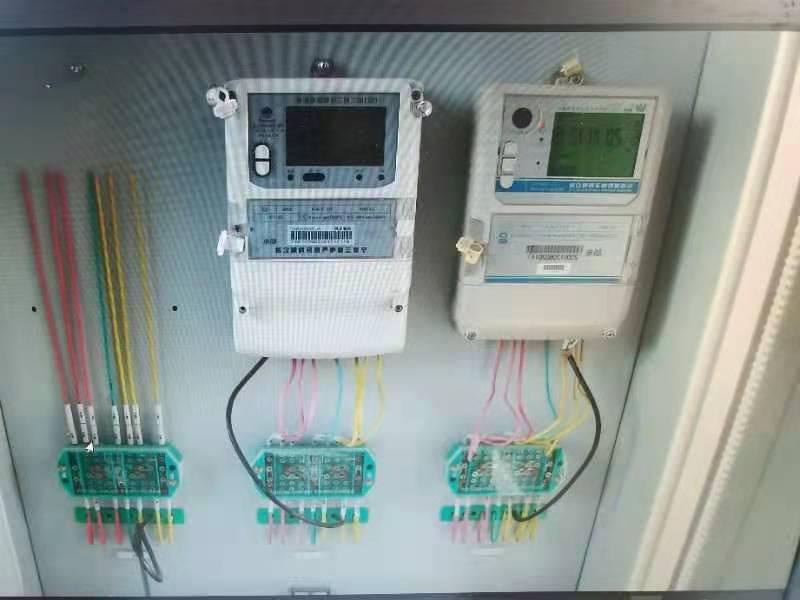digital: (224, 78, 420, 360), (458, 83, 670, 340)
